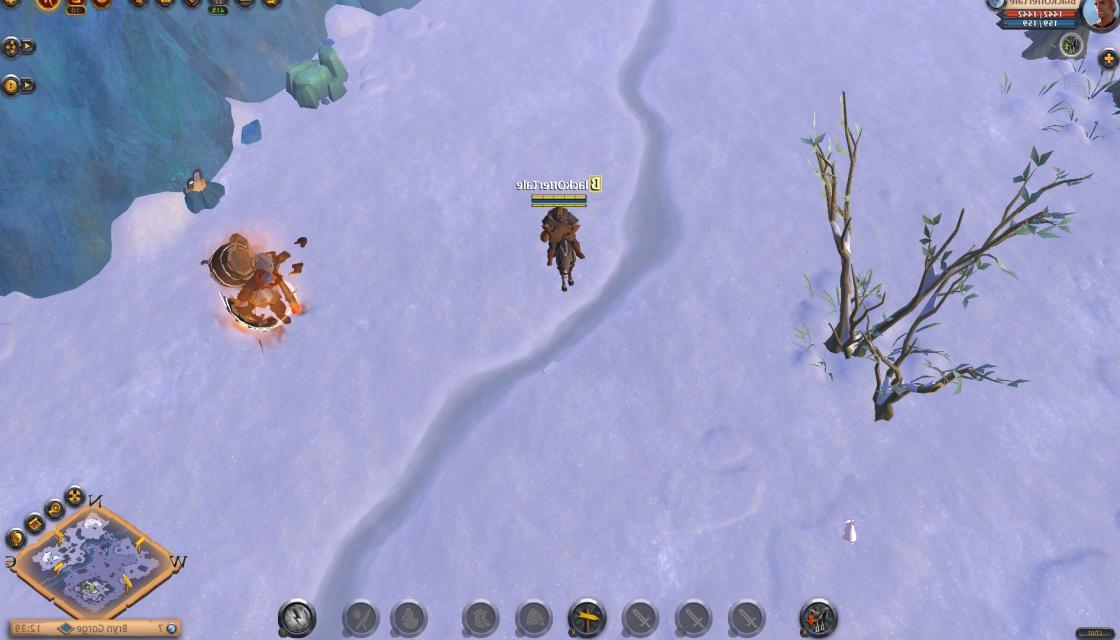copperore: (179, 164, 230, 216)
sandstone: (283, 47, 350, 111)
